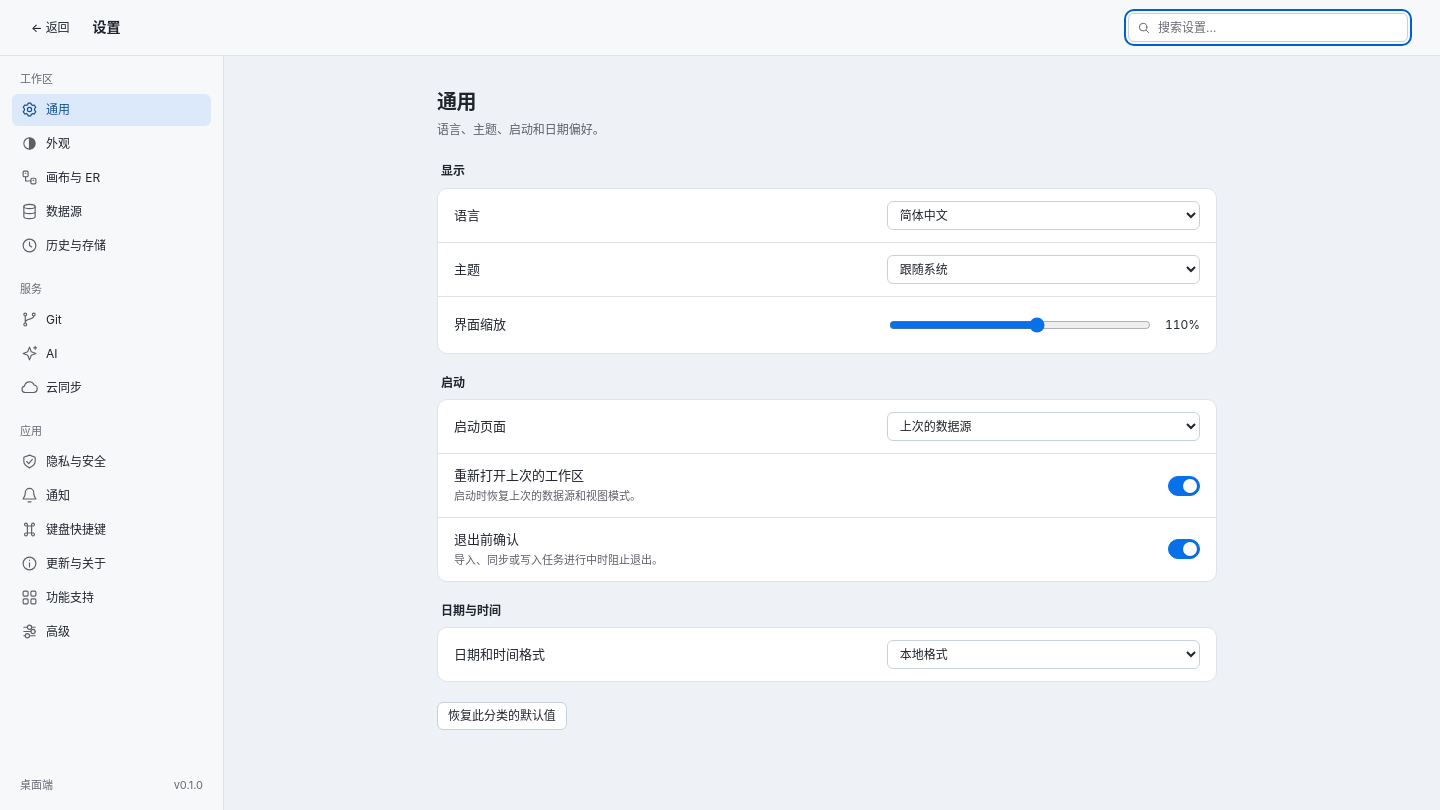
it: searches Chinese aliases and English category names
This screenshot has width=1440, height=810.
In the search field labelled "搜索设置": (1268, 28) x1=1128 y1=13 x2=1408 y2=42, type "语言"
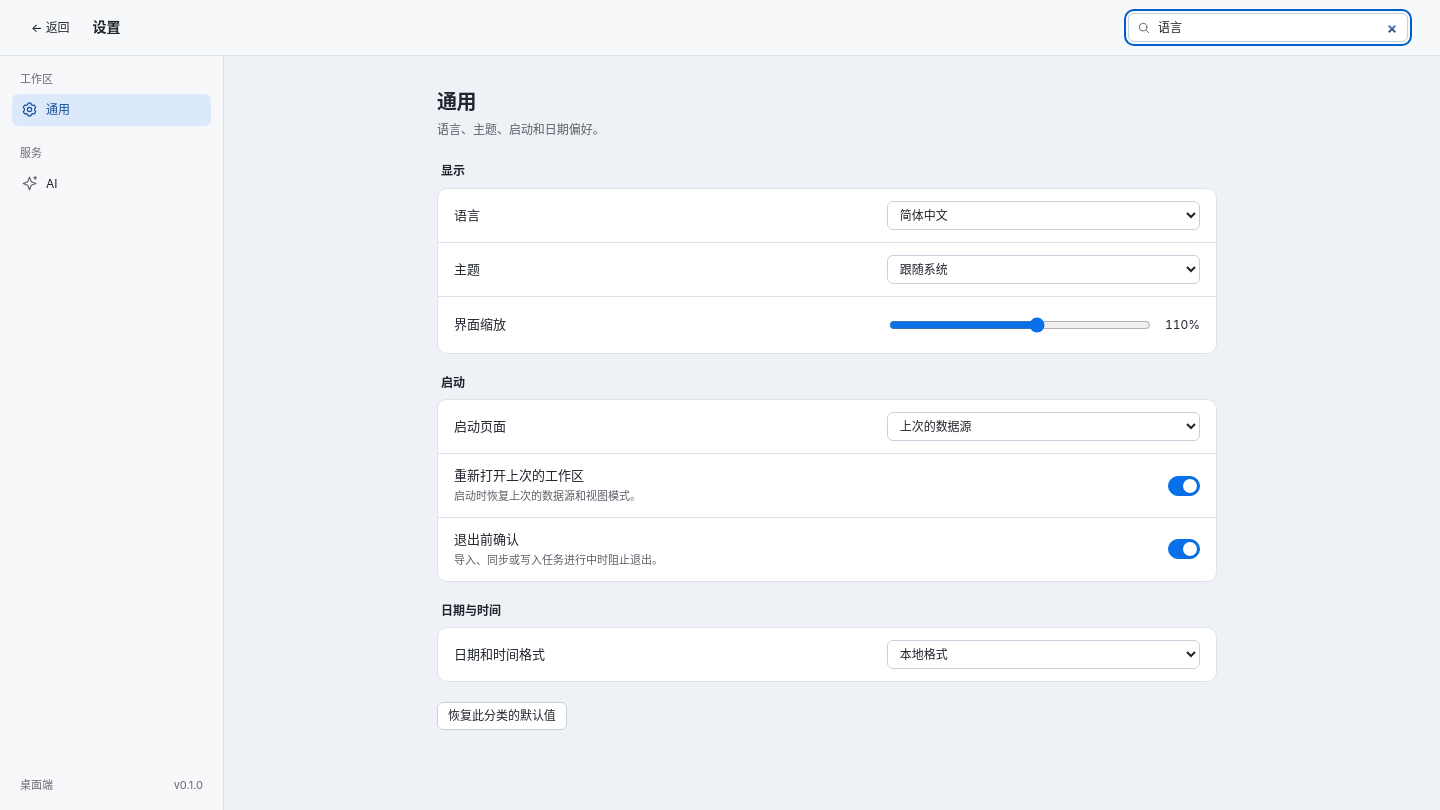
Expected: the dropdown labelled "语言" shows "简体中文", x1=887 y1=201 x2=1200 y2=230
Replace the text in the search field named "搜索设置" with "Keyboard": (1268, 28) x1=1128 y1=13 x2=1408 y2=42
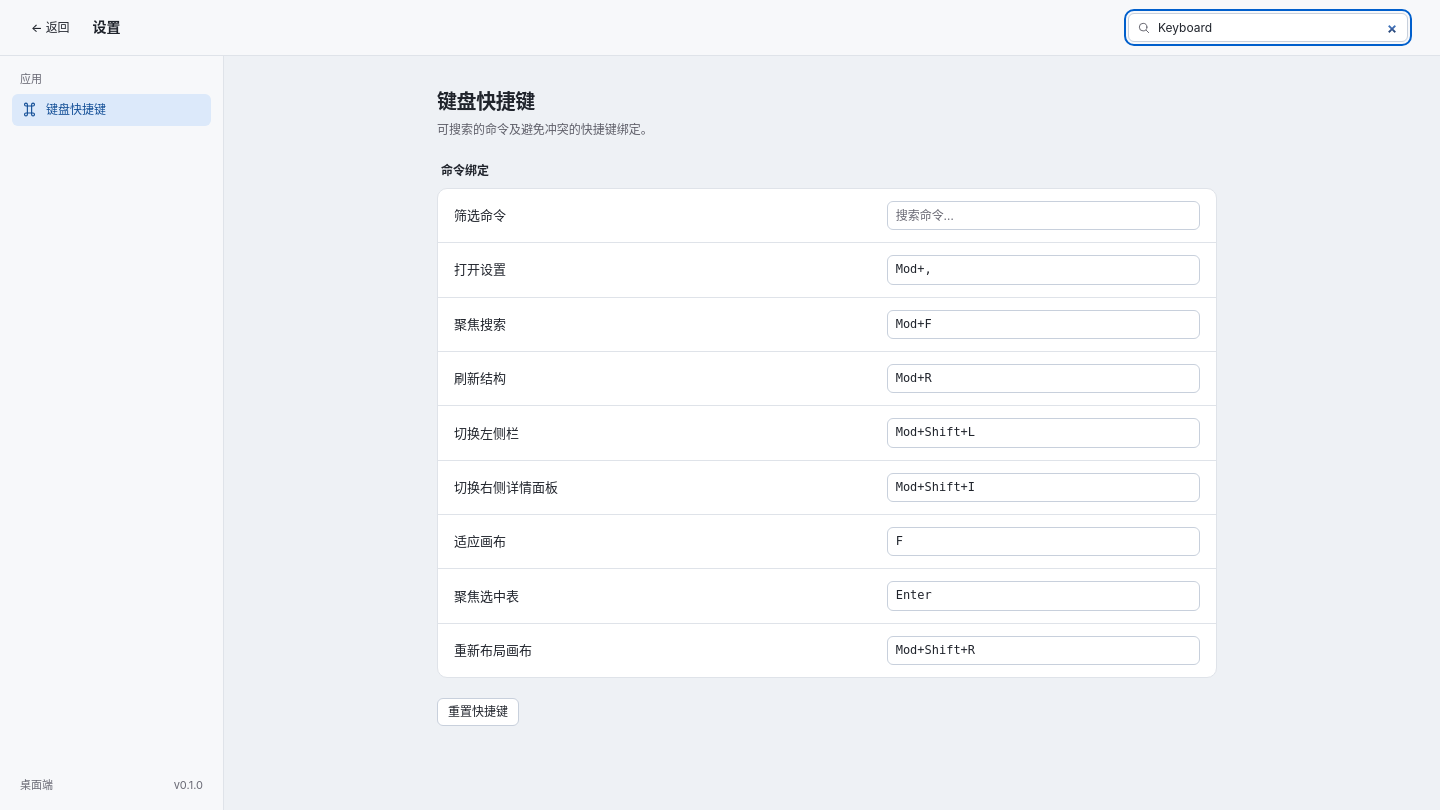
Now the heading "键盘快捷键" is shown, box x1=437 y1=90 x2=535 y2=114
Now the field labelled "打开设置" is shown, box x1=887 y1=255 x2=1200 y2=285
